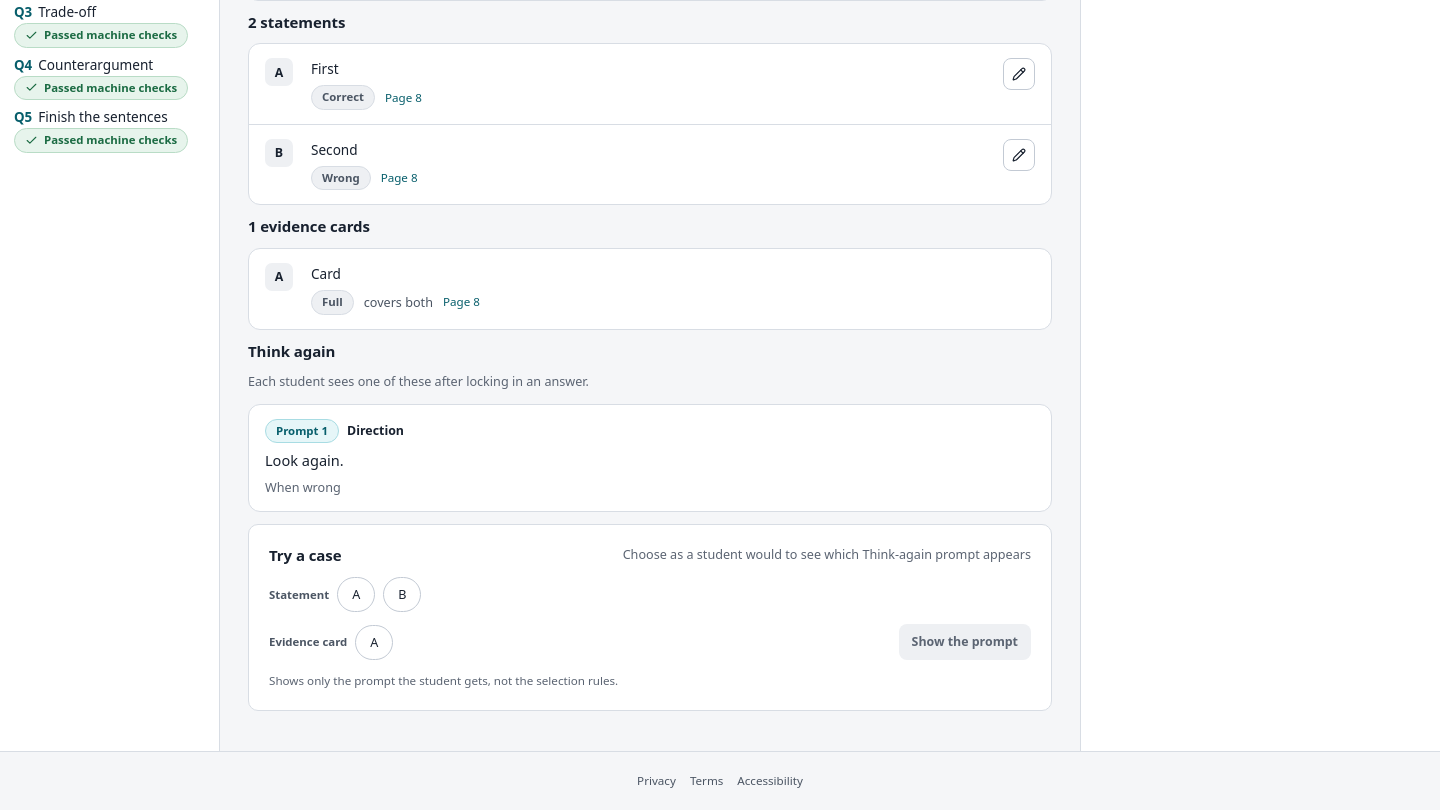
Test case: T7, T9 and T11 › try a case shows the prompt without any rule detail
The width and height of the screenshot is (1440, 810).
(page scrolled)
Click the button named "Statement A" at x=356, y=595, box [337,577,375,612]
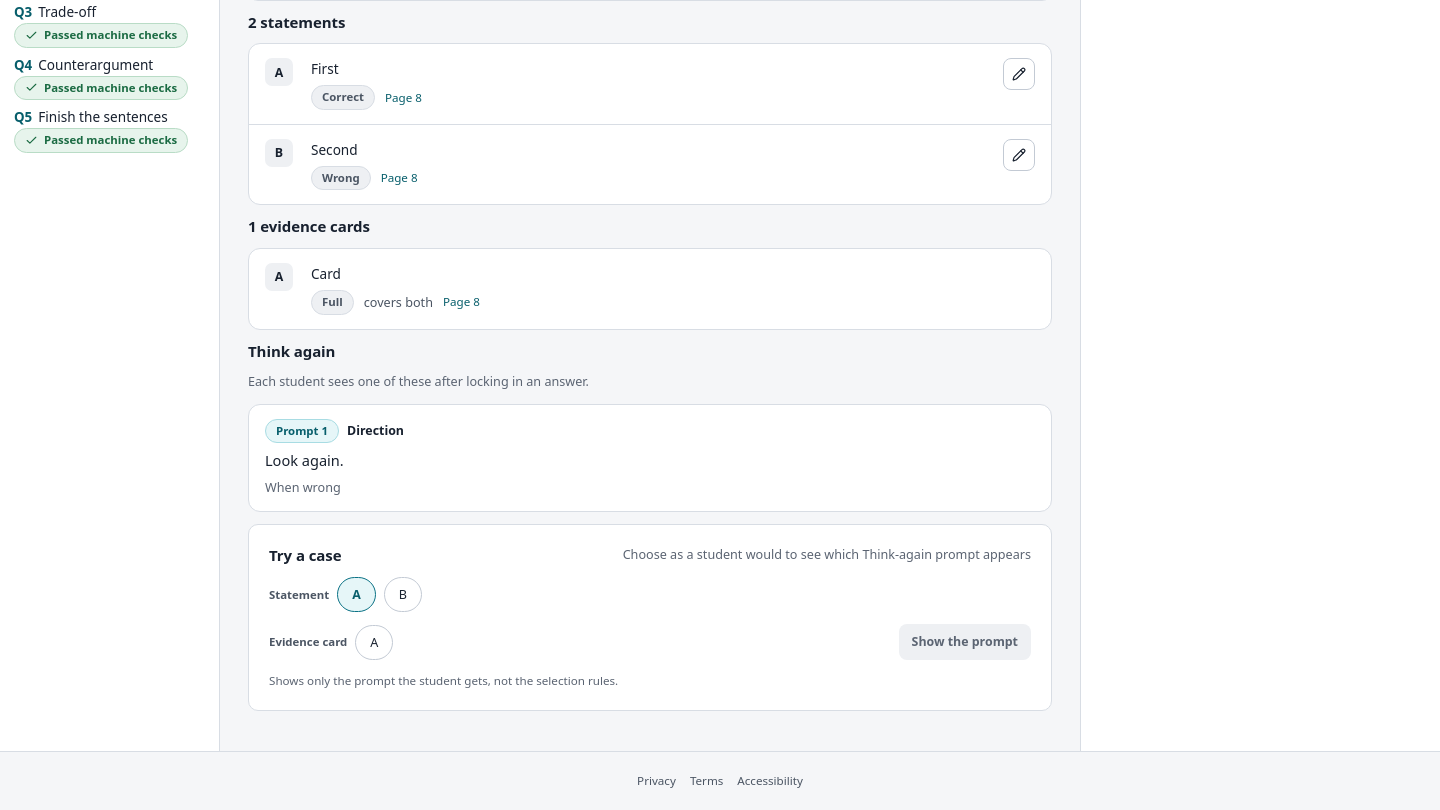
Click the button named "Card A" at x=374, y=642, box [355,624,393,660]
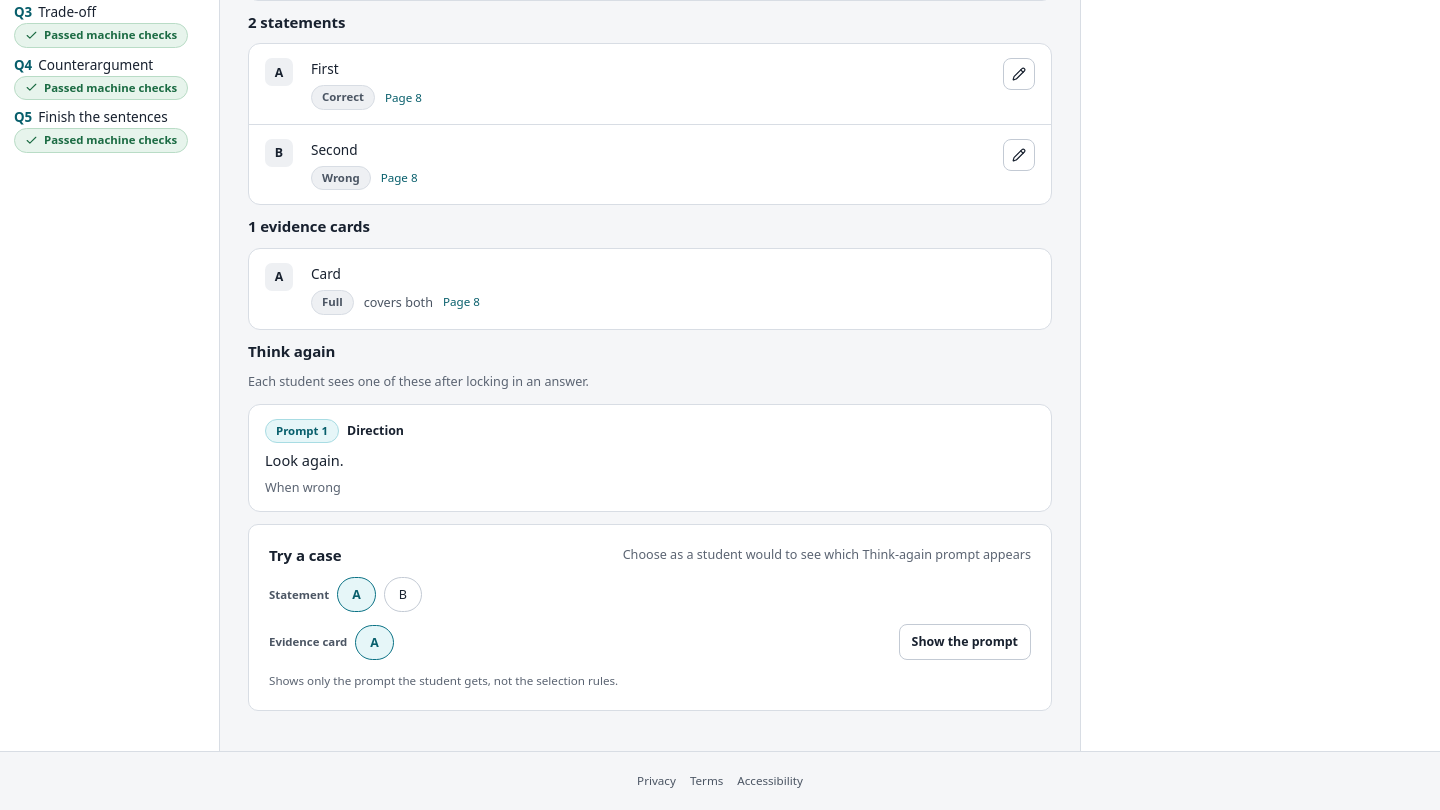
Click the button "Show the prompt" at x=965, y=642, box [899,624,1031,660]
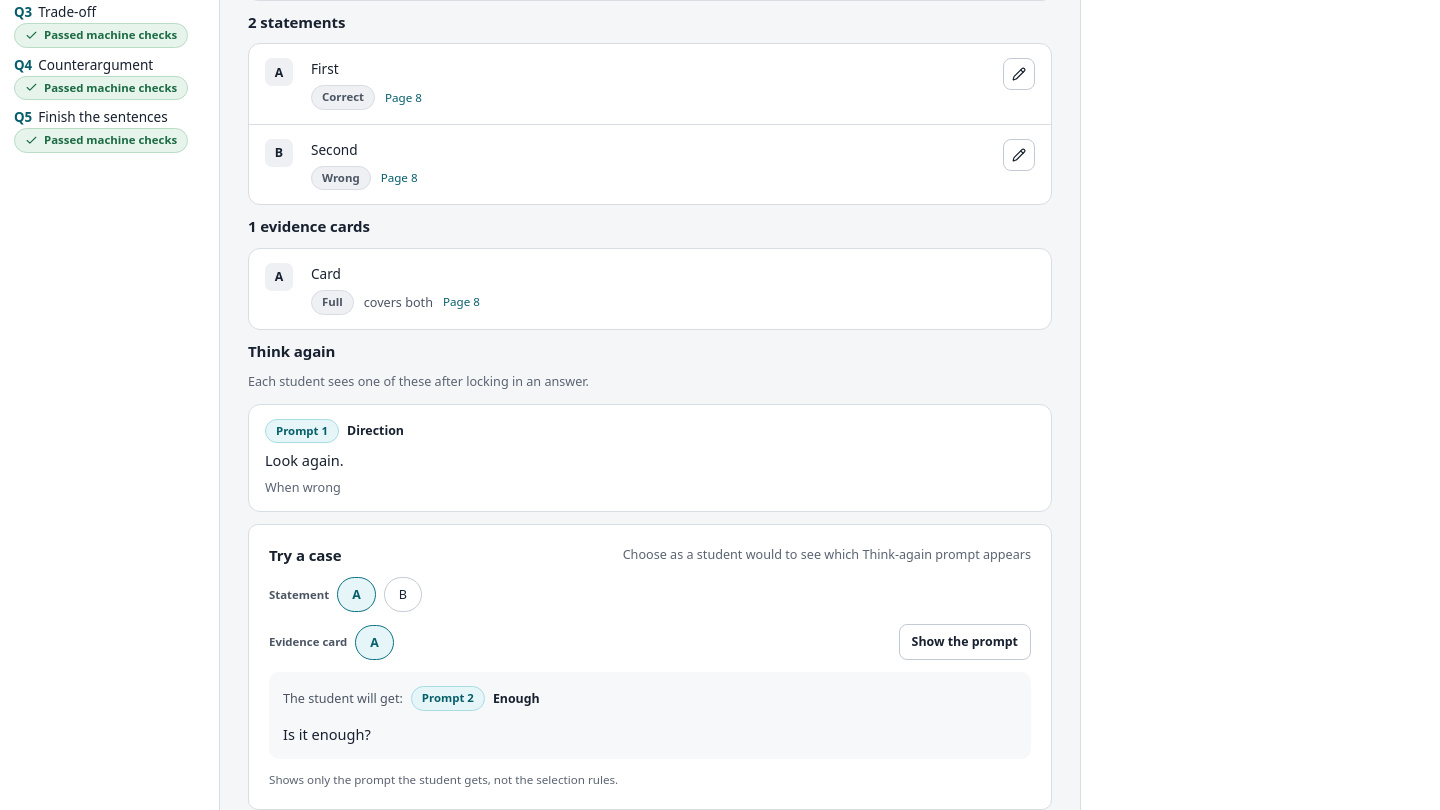
Expected: the text "Shows only the prompt the student gets, not the selection rules." is shown, [269,772,618,787]
Expected: the text "Is it enough?" is shown, [283,724,371,744]
